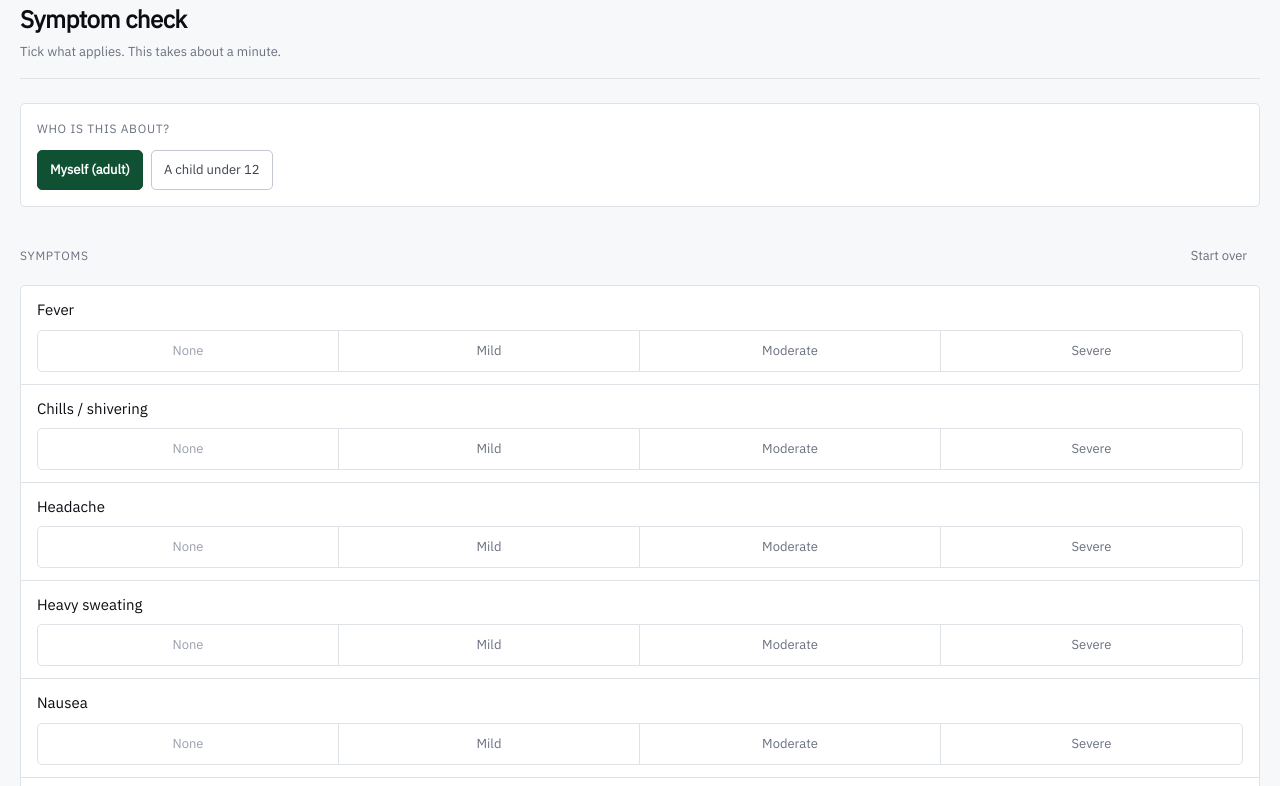
Test: Symptom check flow › always offers a route back out of a result
Click the radio button with aria-label "Fever: Severe" at {"x": 1092, "y": 351}, box [941,331,1242,371]
(page scrolled)
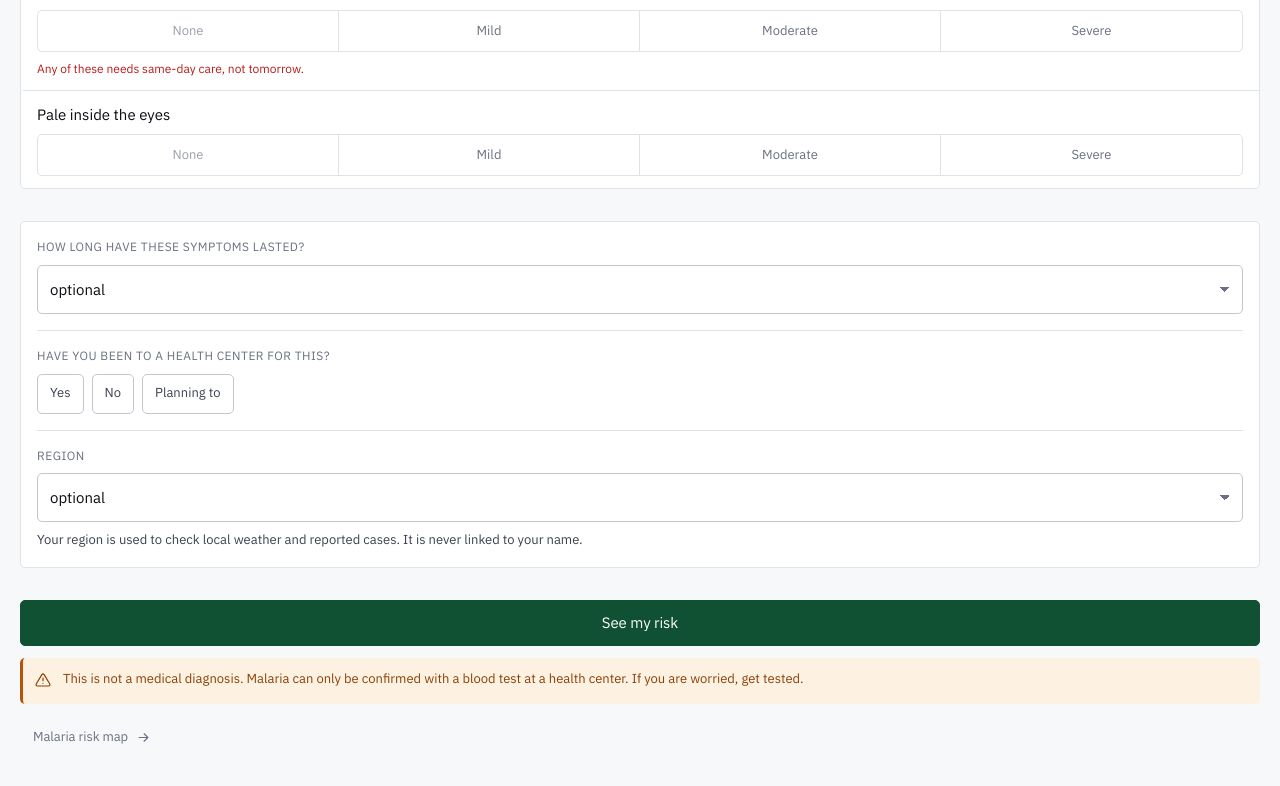
Click the button "See my risk" at {"x": 640, "y": 622}, box [20,600,1260,646]
(page scrolled)
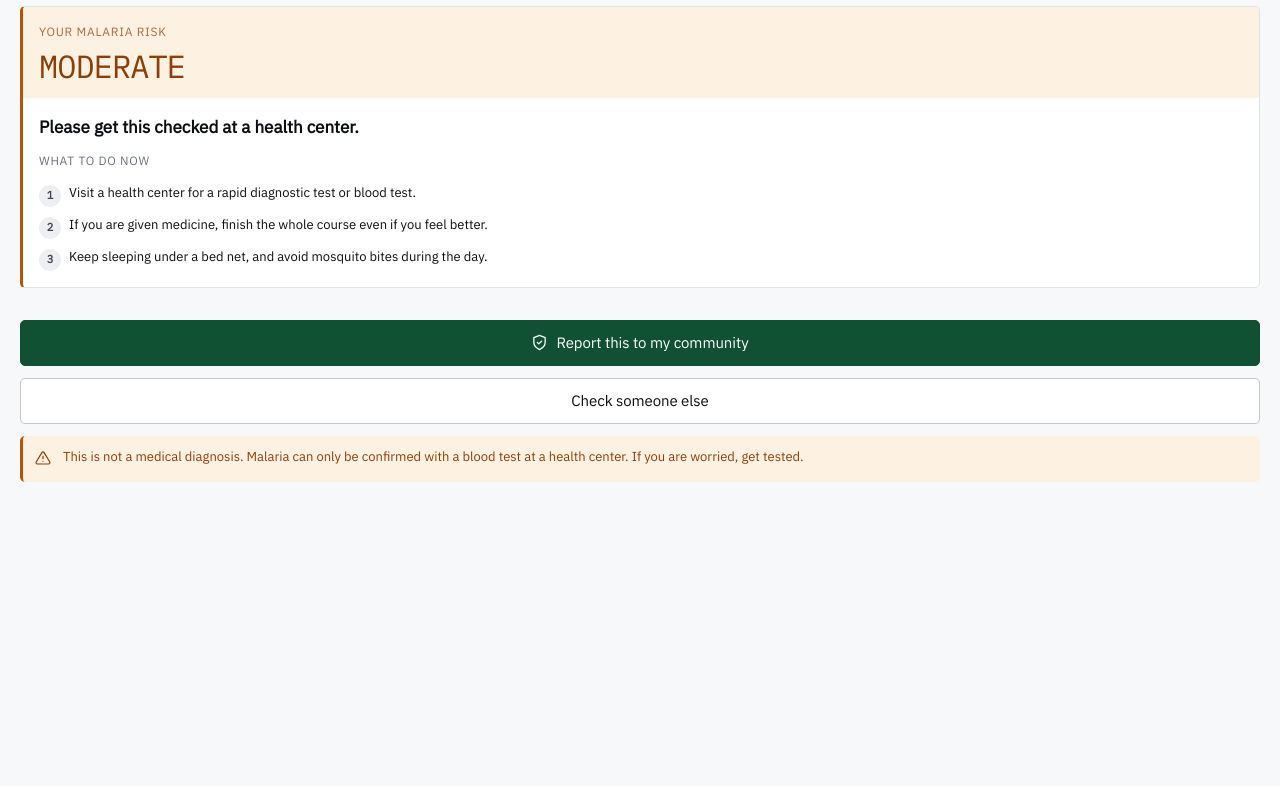
Check: the button "Check someone else" is shown, box [20,378,1260,424]
